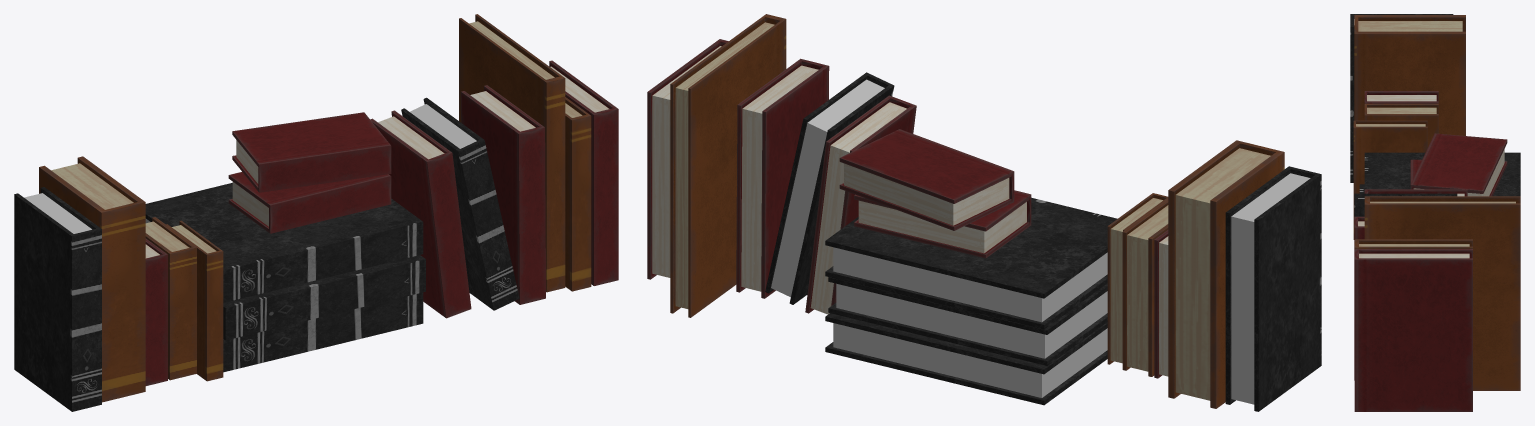
File: BookShelf_ShelfRow_01.fbx
3 renders of one model, left to right at view 1: azimuth 30°, elevation 25°; view 2: azimuth 150°, elevation 25°; view 3: azimuth 270°, elevation 25°, orthographic. The views are drawn at different scales.
Visible parts, largest first — view 1: polySurface195; view 2: polySurface195; view 3: polySurface195.
Part boxes in pixels (box(x1,y1,x2,y2)): polySurface195: box(14, 14, 618, 411); polySurface195: box(647, 14, 1321, 411); polySurface195: box(1350, 14, 1520, 411).
Bounding box in the file's own units: 3.1 × 1.14 × 0.9345.
